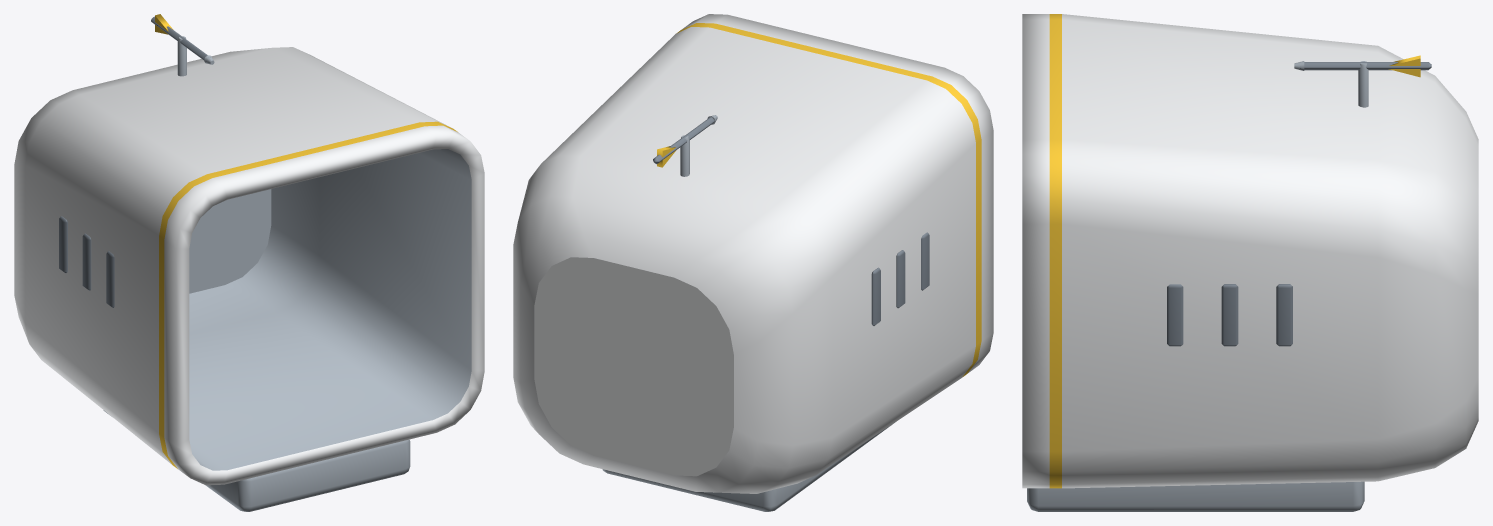
File: frame-nacelle-tail.glb
3 renders of one model, left to right at view 1: azimuth 30°, elevation 25°; view 2: azimuth 150°, elevation 25°; view 3: azimuth 270°, elevation 25°, orthographic. The views are drawn at different scales.
Parts seen in each view (by area): view 1: tail_shell_open_front, tail_mounting_keel, side_vent_L_2; view 2: tail_shell_open_front, tail_mounting_keel, side_vent_L_2, side_vent_L_1; view 3: tail_shell_open_front, tail_mounting_keel, side_vent_R_2, side_vent_R_1, side_vent_R_3, wind_vane_crossarm.
Part boxes in pixels (bbox=[...]): tail_shell_open_front: bbox=[14, 47, 484, 485]; tail_mounting_keel: bbox=[103, 410, 410, 511]; side_vent_L_2: bbox=[82, 233, 91, 290]; tail_shell_open_front: bbox=[513, 14, 993, 493]; tail_mounting_keel: bbox=[602, 423, 893, 511]; side_vent_L_2: bbox=[896, 250, 905, 308]; side_vent_L_1: bbox=[871, 267, 880, 325]; tail_shell_open_front: bbox=[1022, 14, 1478, 488]; tail_mounting_keel: bbox=[1027, 481, 1364, 511]; side_vent_R_2: bbox=[1221, 284, 1238, 346]; side_vent_R_1: bbox=[1276, 284, 1292, 346]; side_vent_R_3: bbox=[1167, 284, 1183, 346]; wind_vane_crossarm: bbox=[1300, 62, 1431, 70].
Size of the model in its own units: 0.906 by 0.995 by 1.
